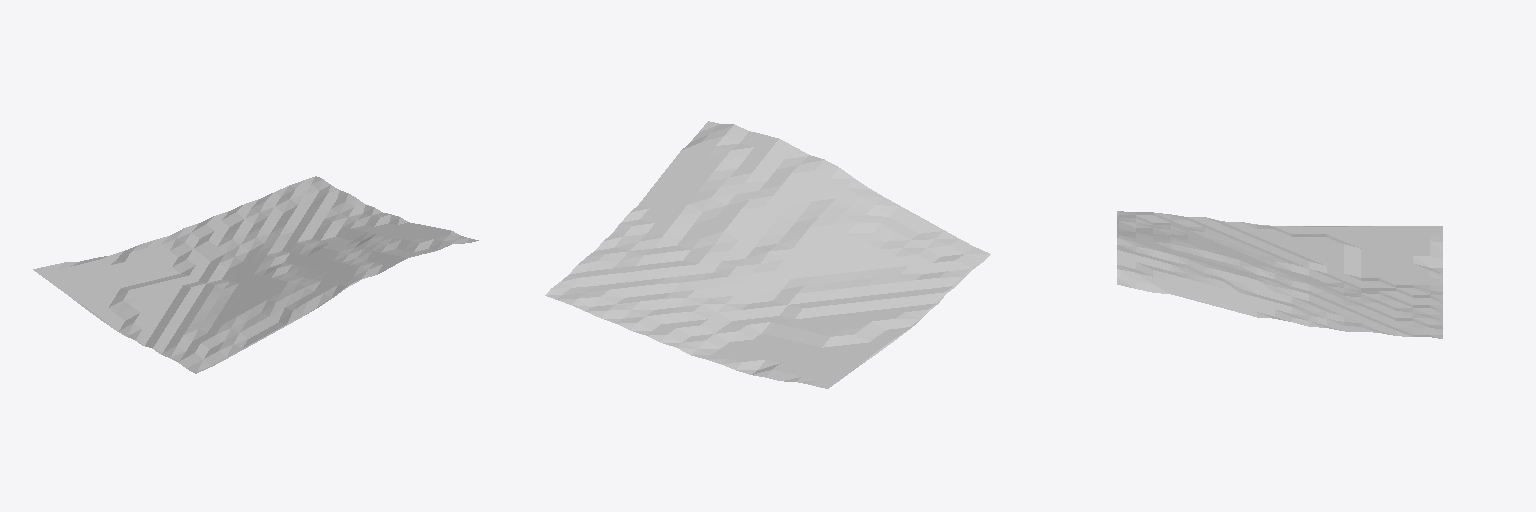
The model's file is terrain_20_-21.obj.
The picture shows the model from 3 angles: view 1: azimuth 30°, elevation 25°; view 2: azimuth 150°, elevation 25°; view 3: azimuth 270°, elevation 25°; orthographic projection.
Visible parts, largest first — view 1: terrain_20_-21_Plane.032; view 2: terrain_20_-21_Plane.032; view 3: terrain_20_-21_Plane.032.
Boxes of the visible parts, <box> form: terrain_20_-21_Plane.032: <box>33,176,478,373</box>; terrain_20_-21_Plane.032: <box>545,121,990,388</box>; terrain_20_-21_Plane.032: <box>1117,211,1442,338</box>.
Size of the model in its own units: 32 by 9.41 by 32.